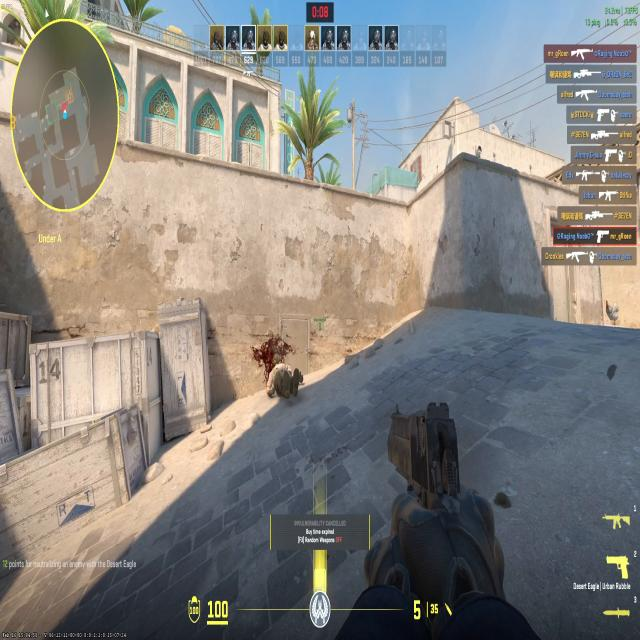player: (267, 351, 307, 405)
